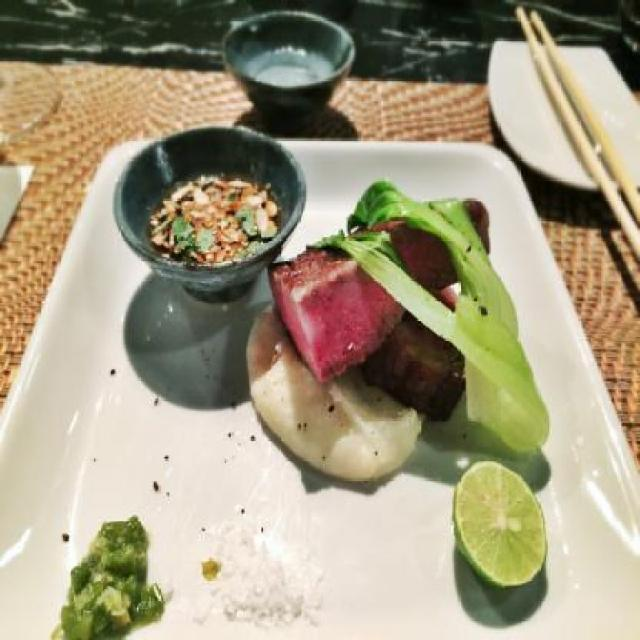Lemon: (453, 458, 547, 590)
